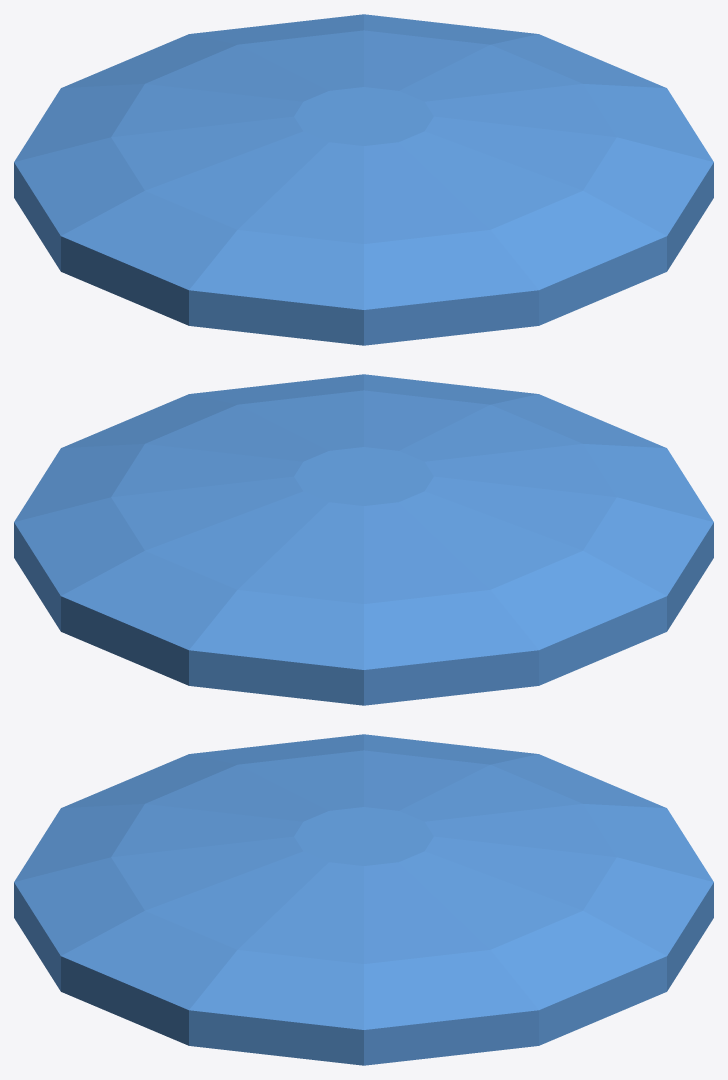
File: Discus.fbx
3 views of the same model, one above another, from view 1: azimuth 30°, elevation 25°; view 2: azimuth 150°, elevation 25°; view 3: azimuth 270°, elevation 25° (orthographic).
Parts seen in each view (by area): view 1: Discus; view 2: Discus; view 3: Discus.
Boxes of the visible parts, left/top/right/bottom form: Discus: left=14, top=14, right=713, bottom=345; Discus: left=14, top=374, right=713, bottom=705; Discus: left=14, top=734, right=713, bottom=1065.
Bounding box in the file's own units: 150 × 30 × 150.
